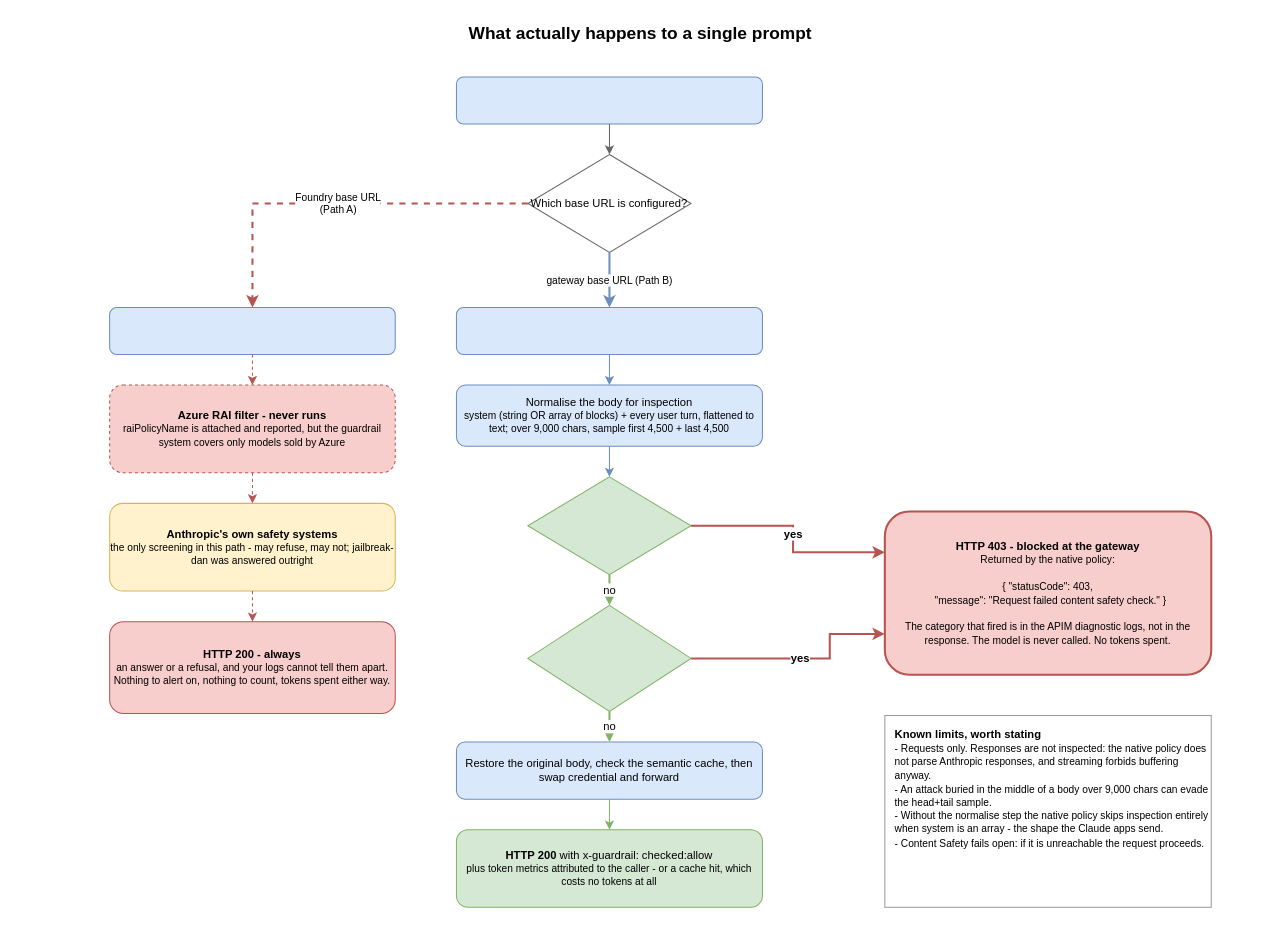
Some shapes in this 1279 by 925 pixel diagram are drawn without their labels. Here are the shapes that lost their labels. From the top down, the box of each, then its label:
(455, 76, 762, 124): Client sends POST /v1/messages
(109, 307, 395, 354): Straight to Claude in Foundry
(455, 307, 762, 354): Gateway authenticates the caller
(527, 476, 691, 575): llm-content-safety shield-prompt attack detected?
(527, 604, 691, 711): llm-content-safety any category severity >= 4?
